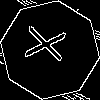X: (25, 25, 75, 65)
